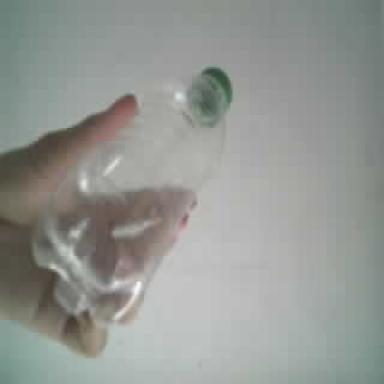bottle: (34, 69, 230, 325)
